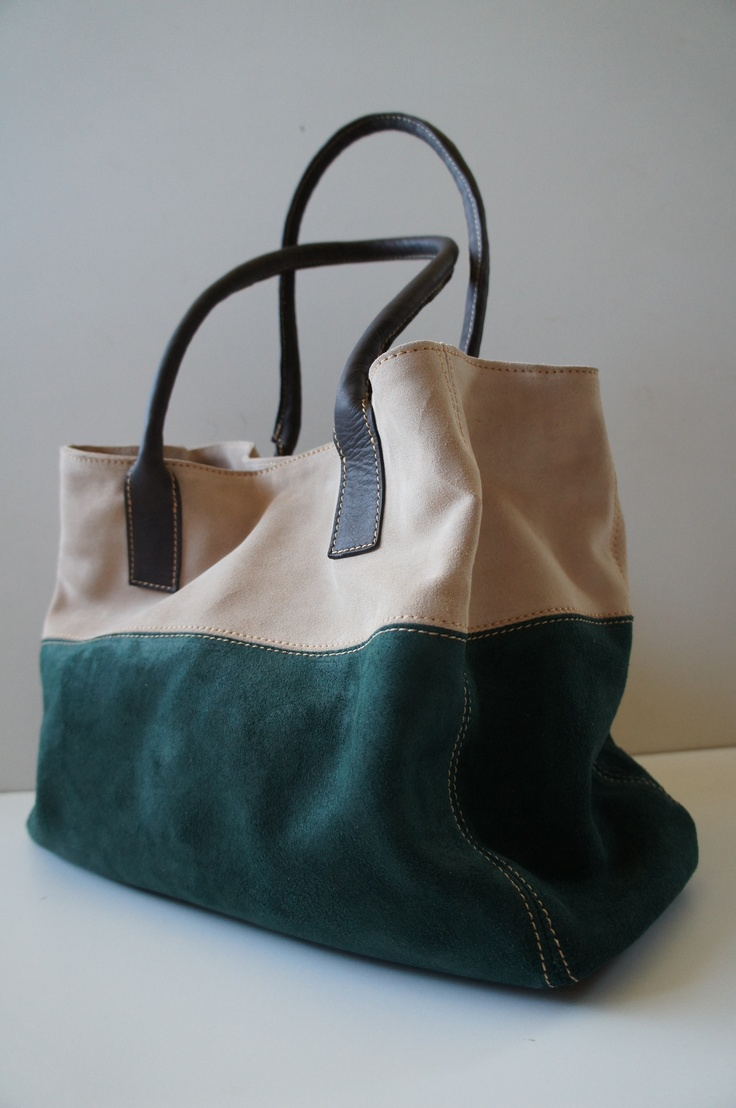gamuza: (30, 339, 700, 999)
